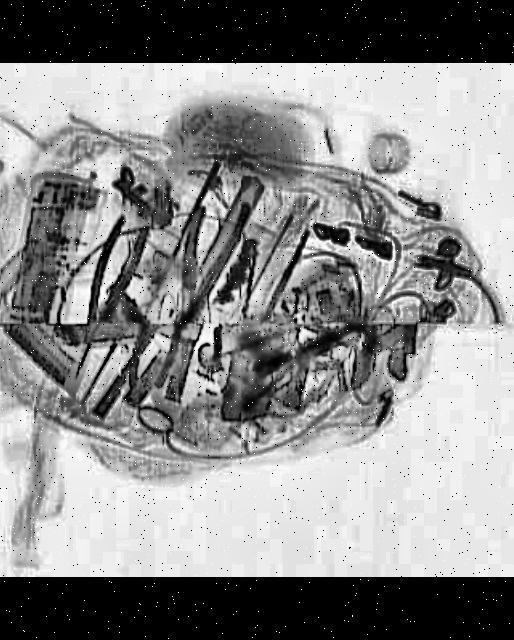Pliers: (134, 192, 256, 392), (55, 214, 157, 388)
